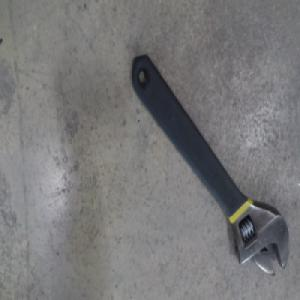AdjustableWrench: (130, 51, 289, 275)
